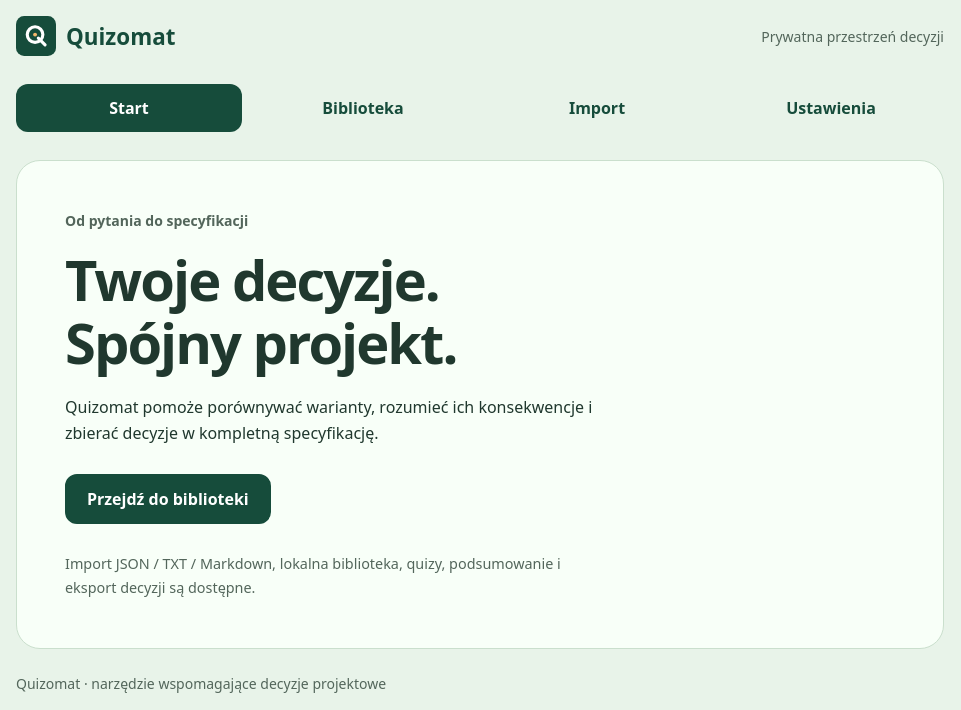
Shell Quizomatu › prowadzi ze startu do biblioteki i oznacza aktywną stronę
Expected: the heading "Twoje decyzje. Spójny projekt." is shown, [65,241,456,380]
Click the link "Przejdź do biblioteki" at (168, 499), box [65,474,271,524]
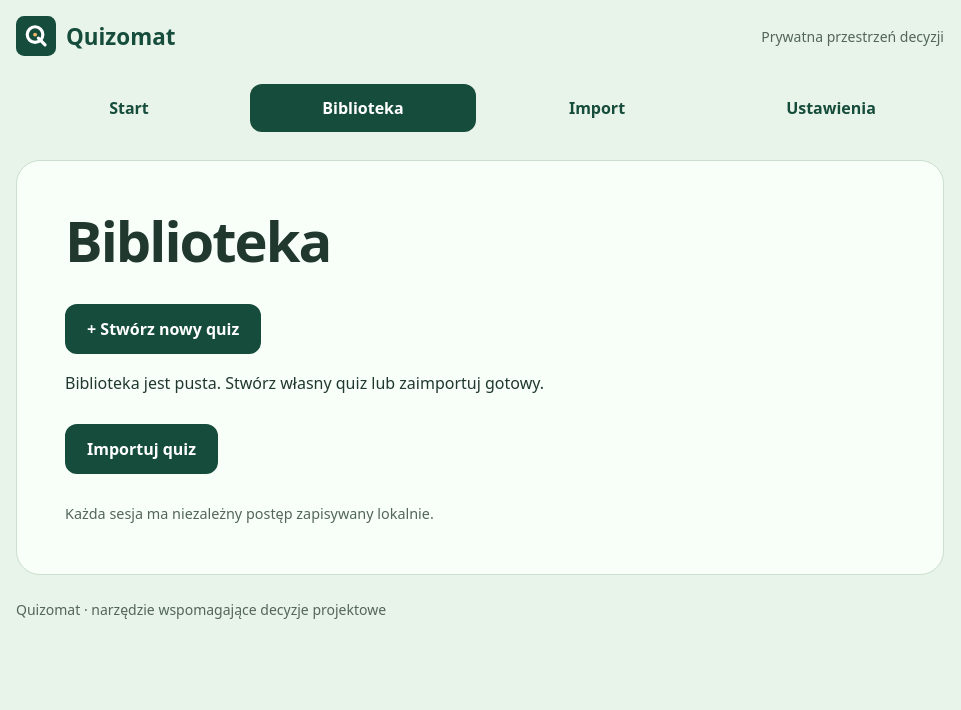
Expected: the heading "Biblioteka" is shown, [65,202,330,278]
